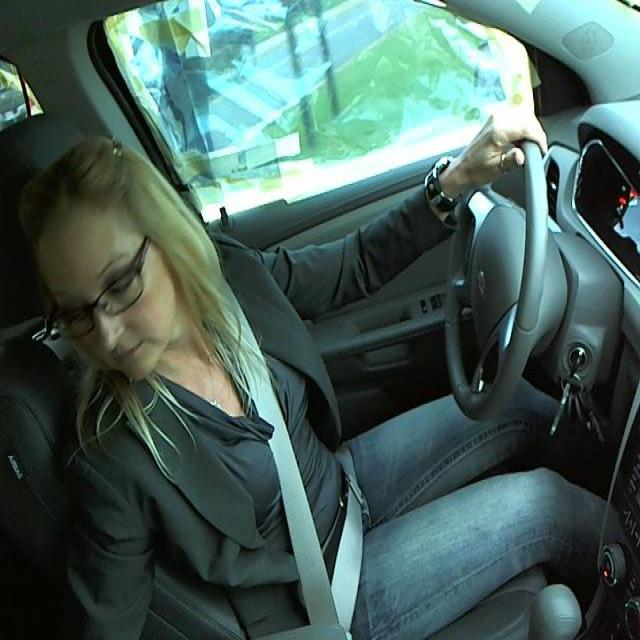seatbelt: (214, 311, 375, 621)
